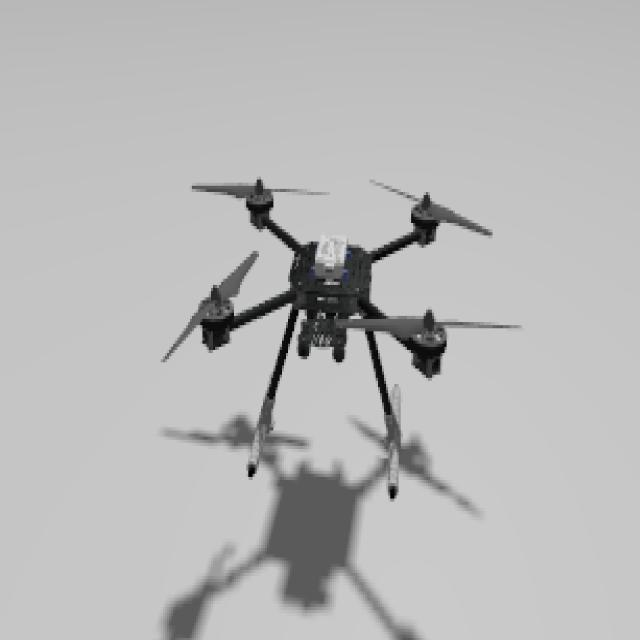drone: (158, 173, 527, 504)
